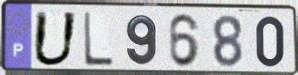0: (254, 14, 287, 69)
6: (167, 12, 202, 70)
8: (210, 14, 245, 70)
9: (123, 13, 159, 69)
L: (81, 11, 115, 68)
U: (30, 9, 80, 69)
